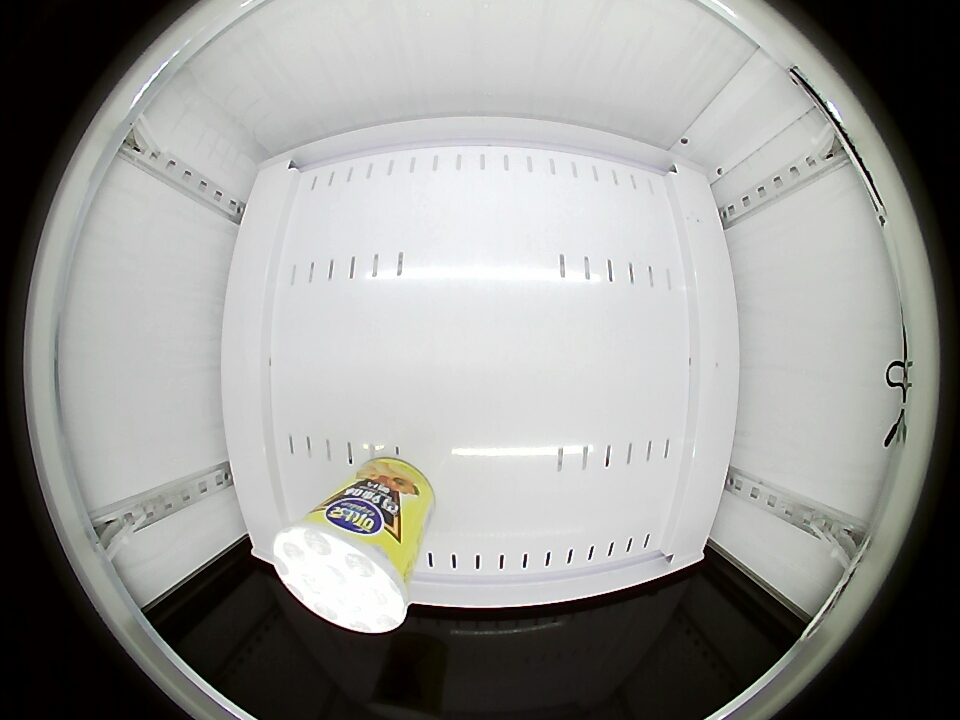kebike: (272, 505, 413, 634)
